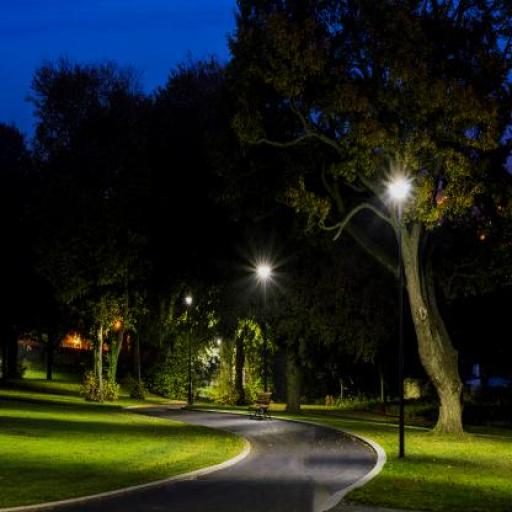street light: (388, 180, 409, 460), (257, 265, 272, 411), (184, 289, 194, 405)
